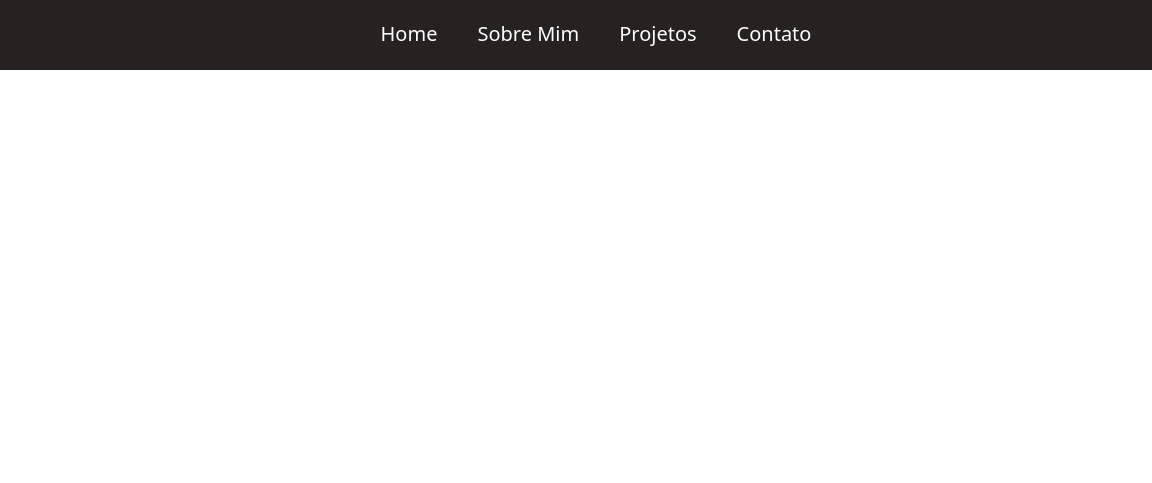
Scenario: routes › should render the projects page
Click the link "Projetos" at coordinates (658, 34), box [619, 20, 697, 47]
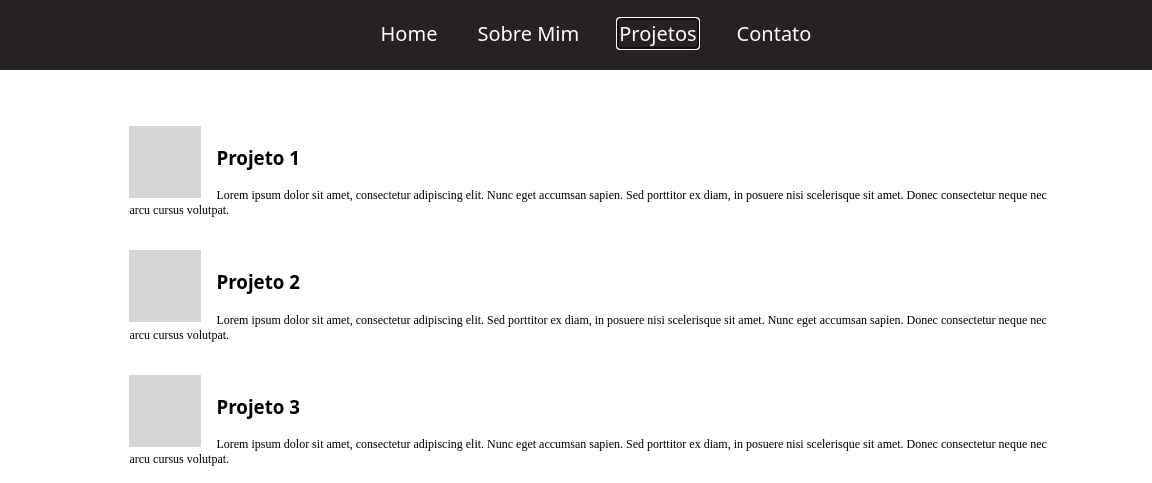
Now the heading "Projeto 1" is shown, box [216, 145, 300, 170]
